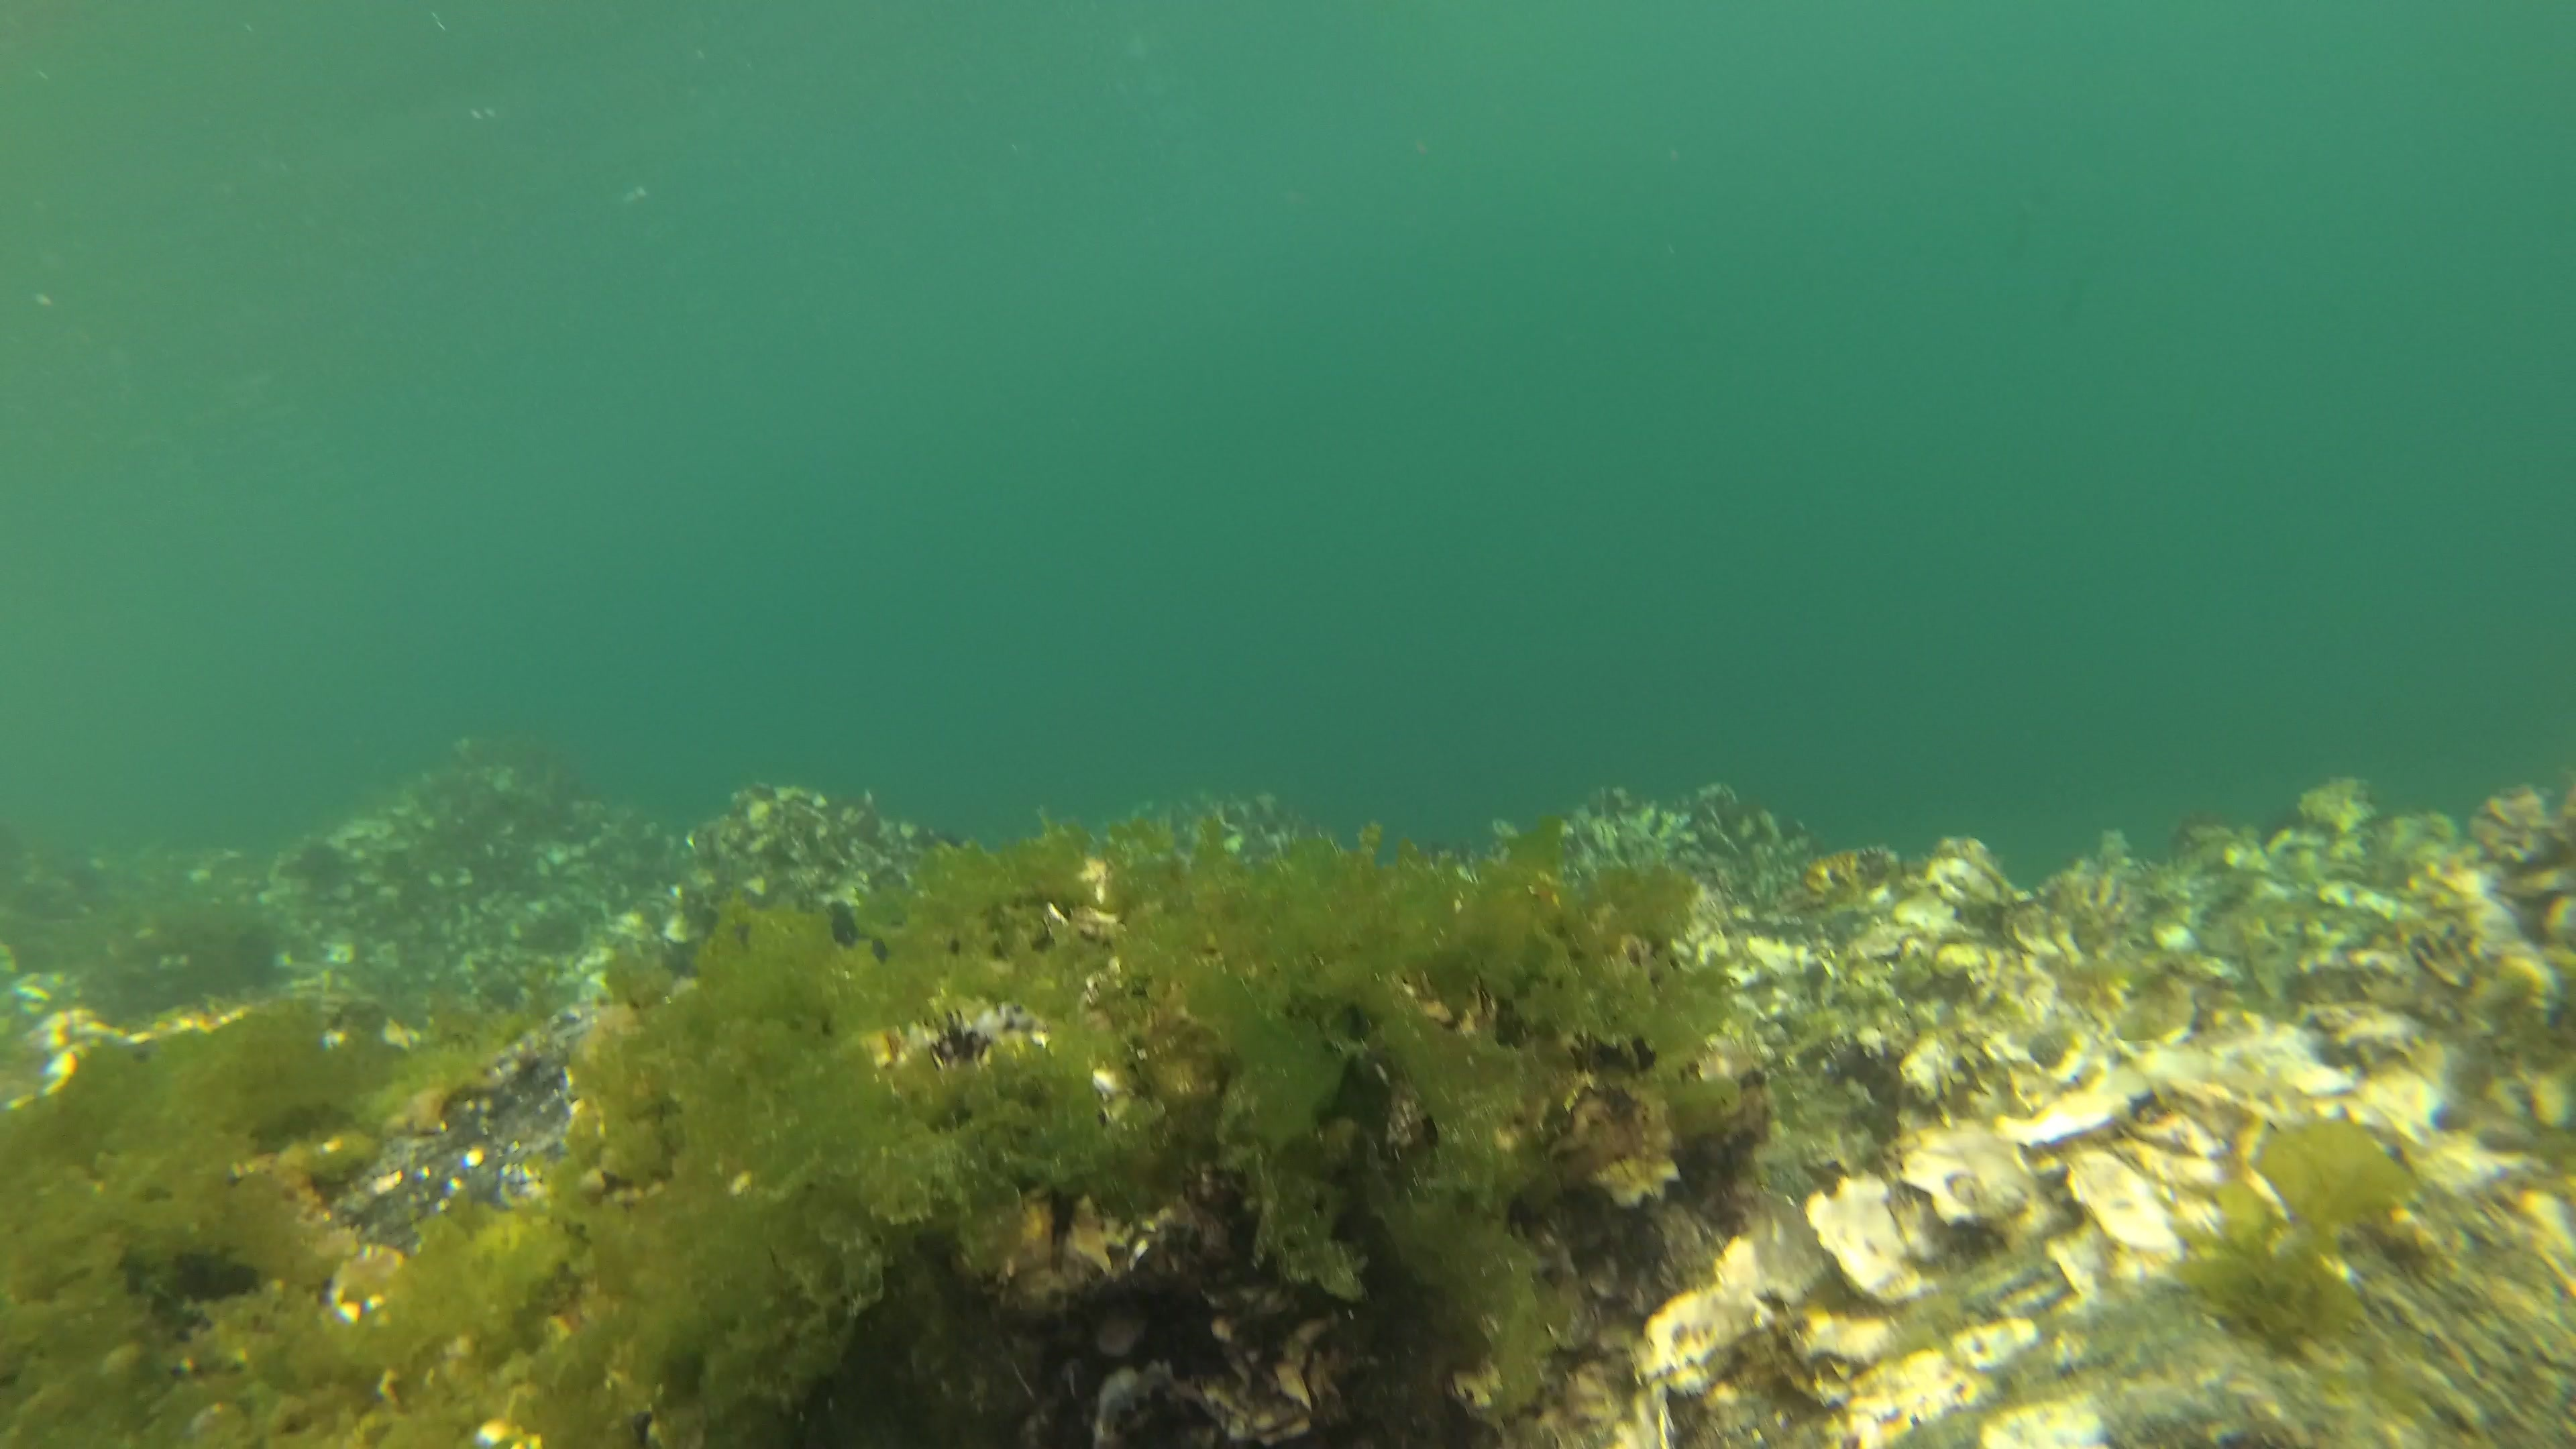echinus: (225, 927, 287, 978), (288, 839, 349, 890)
